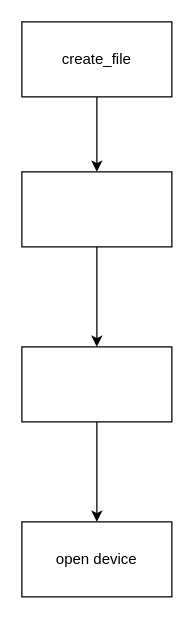
The diagram is 194 pixels wide and 619 high, and some of its shapes have lost their labels. The box of each missing label's shape, as (x1, y1, x2, y2) in pixels:
input sn: (21, 346, 172, 422)
load_param: (21, 171, 172, 247)
